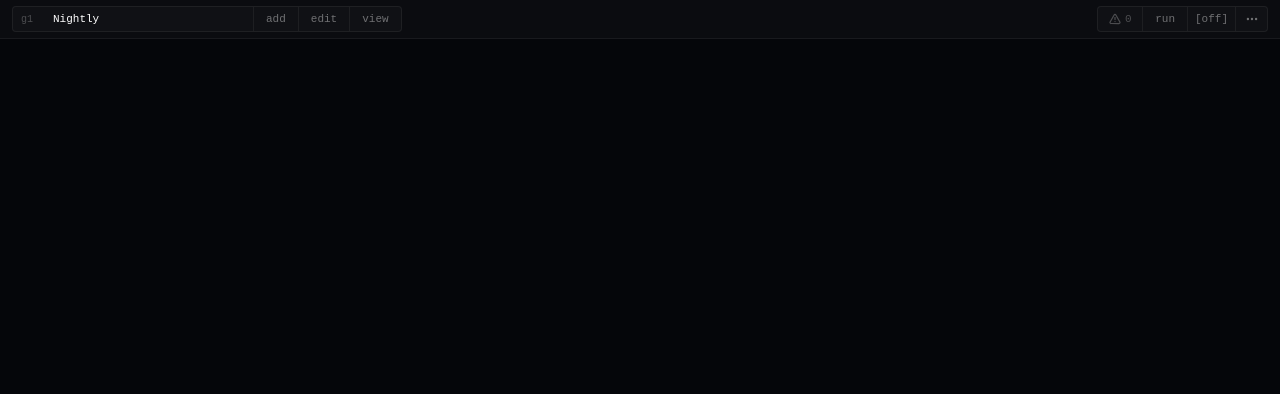
the edit menu › holds every row, with its shortcut where it has one
Click the button "edit": x=324, y=19 [299,7,349,31]
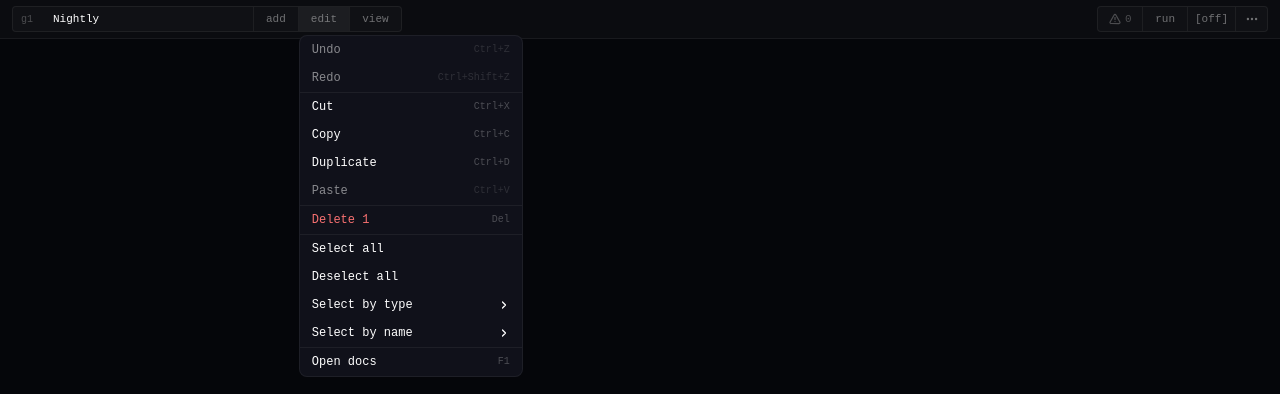
Check: the button "Undo Ctrl+Z" is shown, box [300,36,522,64]
Check: the button "Redo Ctrl+Shift+Z" is shown, box [300,64,522,92]
Check: the button "Cut Ctrl+X" is shown, box [300,93,522,121]
